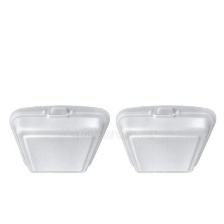foam_box: (6, 100, 113, 179), (113, 100, 220, 179)
